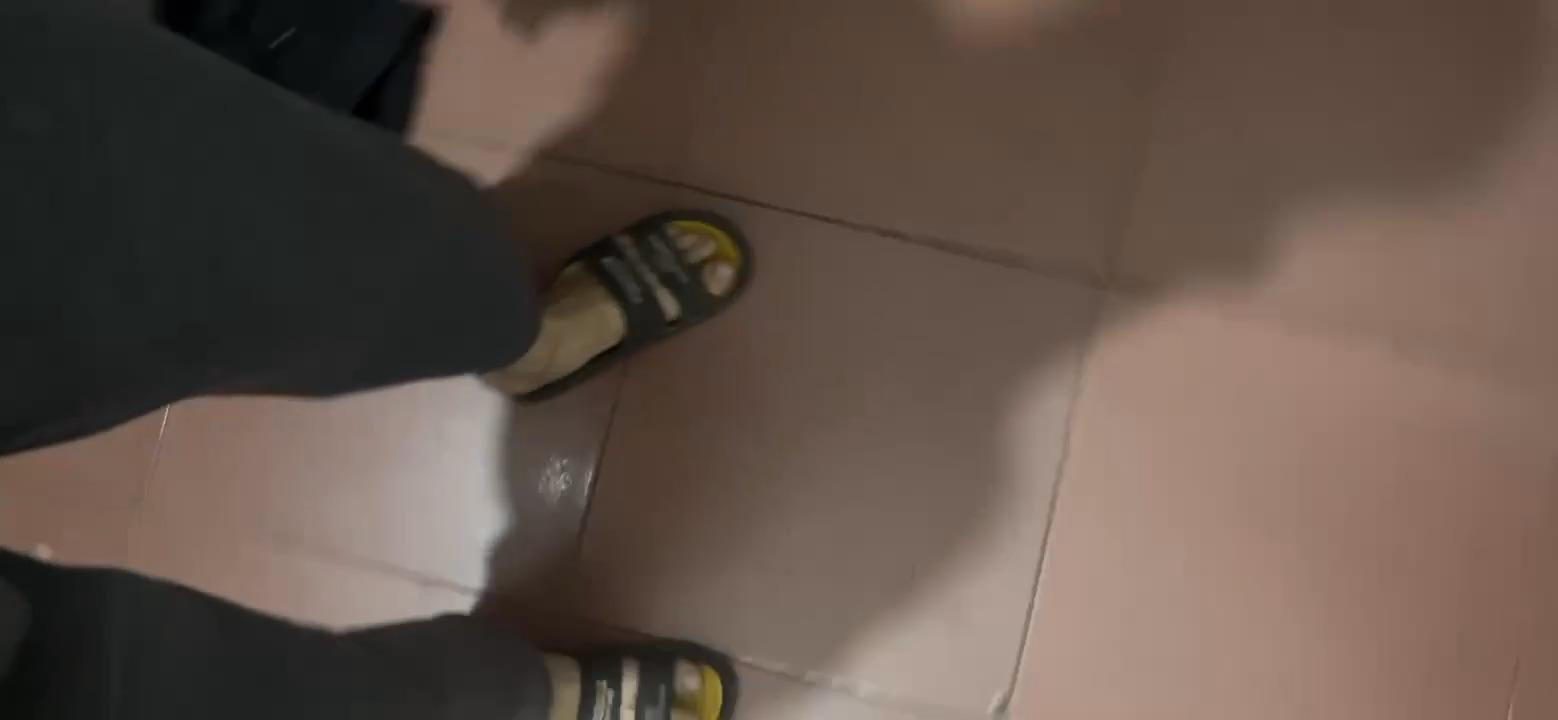no-boot: (493, 199, 754, 405), (501, 599, 739, 720)
